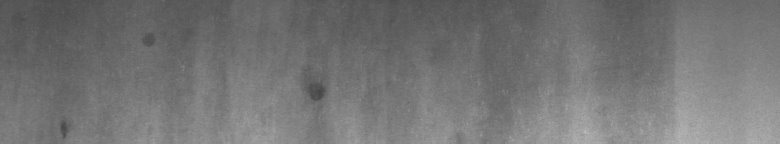fi: (300, 78, 328, 108)
